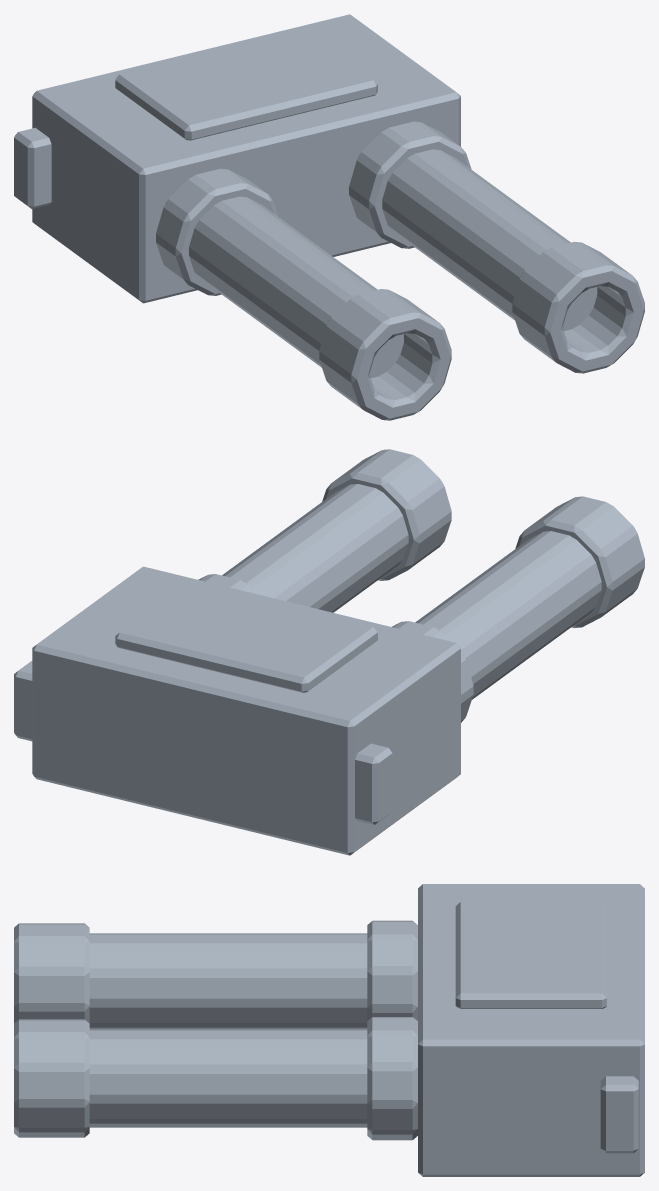
The model's file is Weapon_Twin.fbx.
3 views of the same model, one above another, from view 1: azimuth 30°, elevation 25°; view 2: azimuth 150°, elevation 25°; view 3: azimuth 270°, elevation 25° (orthographic).
Visible parts, largest first — view 1: Weapon_Twin; view 2: Weapon_Twin; view 3: Weapon_Twin.
Boxes of the visible parts, left/top/right/bottom form: Weapon_Twin: left=14, top=14, right=644, bottom=420; Weapon_Twin: left=14, top=449, right=644, bottom=855; Weapon_Twin: left=14, top=884, right=644, bottom=1176.
Size of the model in its own units: 34 by 13.25 by 50.
